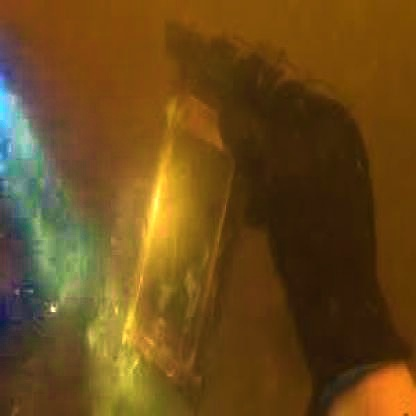cellphone: (132, 92, 234, 384)
